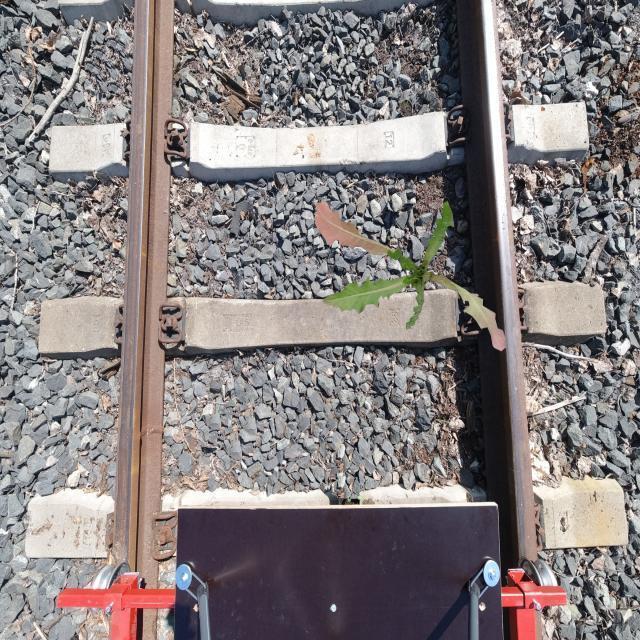Plant: (314, 200, 506, 352)
